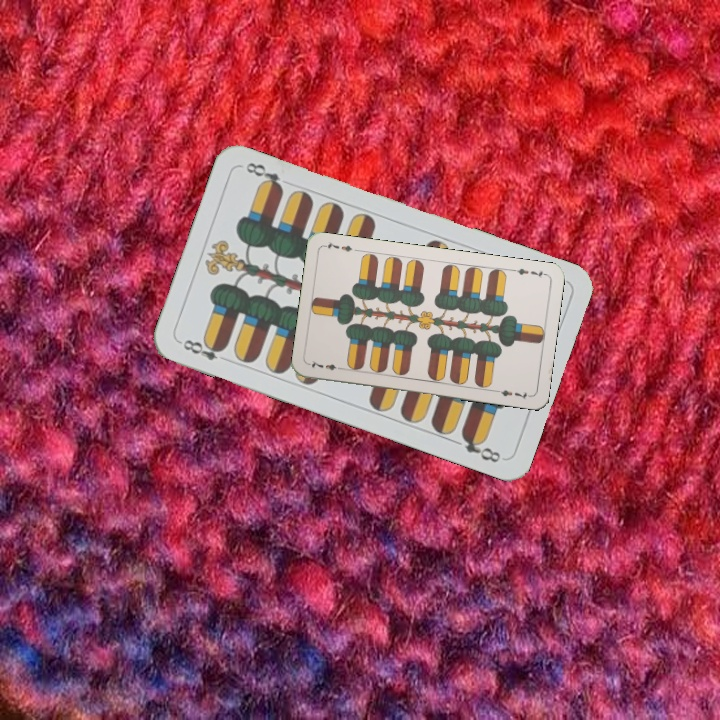E7: (306, 356, 346, 373), (508, 264, 549, 280)
E8: (176, 335, 232, 365)
